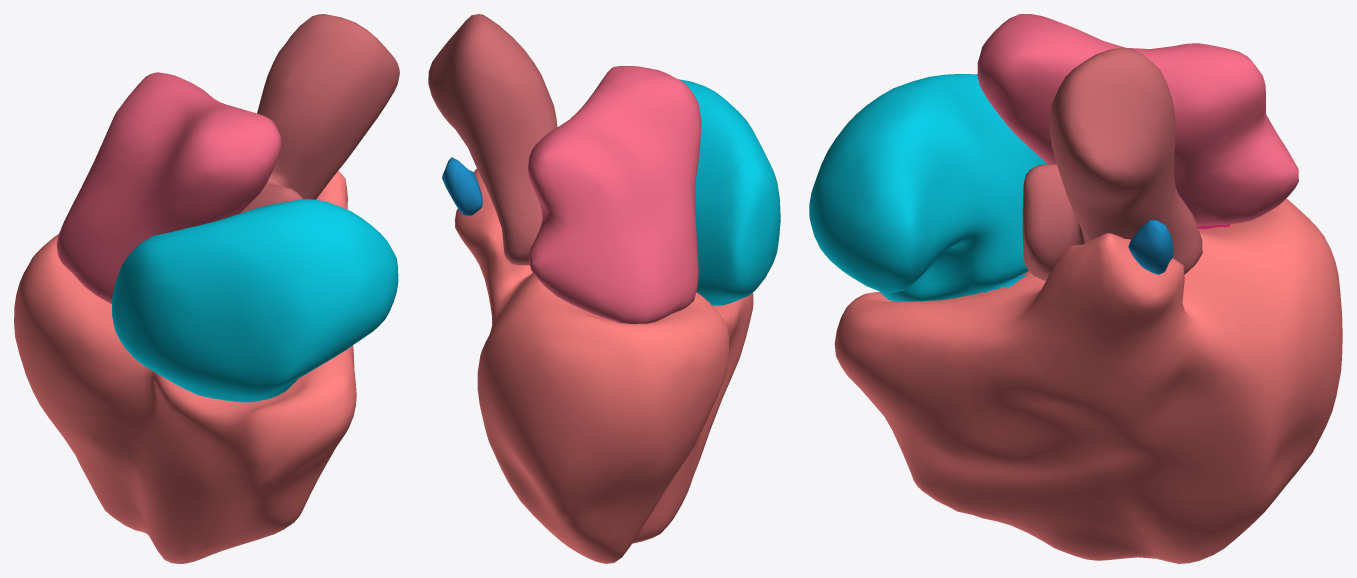
File: frame_12.glb
The picture shows the model from 3 angles, left to right: view 1: azimuth 30°, elevation 25°; view 2: azimuth 150°, elevation 25°; view 3: azimuth 270°, elevation 25°; orthographic projection. The views are drawn at different scales.
Parts seen in each view (by area): view 1: Renderer Node; view 2: Renderer Node; view 3: Renderer Node.
Part boxes in pixels (bbox=[...]): Renderer Node: bbox=[14, 14, 399, 563]; Renderer Node: bbox=[428, 14, 780, 563]; Renderer Node: bbox=[809, 14, 1342, 563].
Bounding box in the file's own units: 104 × 154 × 123.
